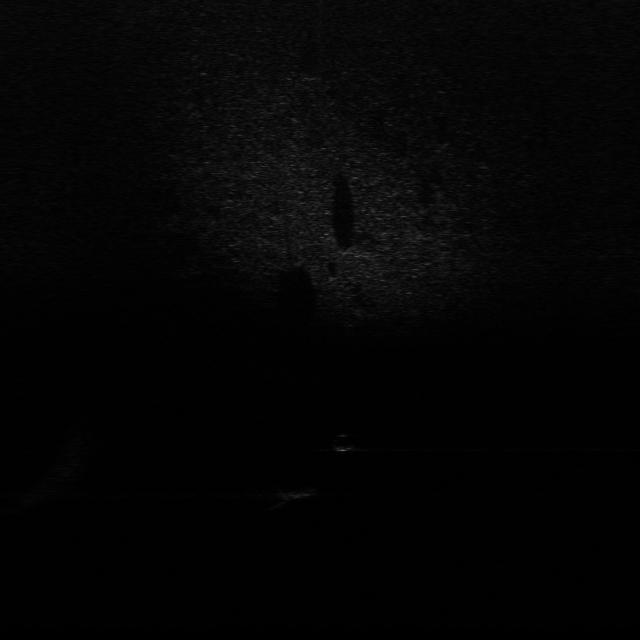ball: (328, 432, 363, 455)
square cage: (277, 480, 323, 502)
